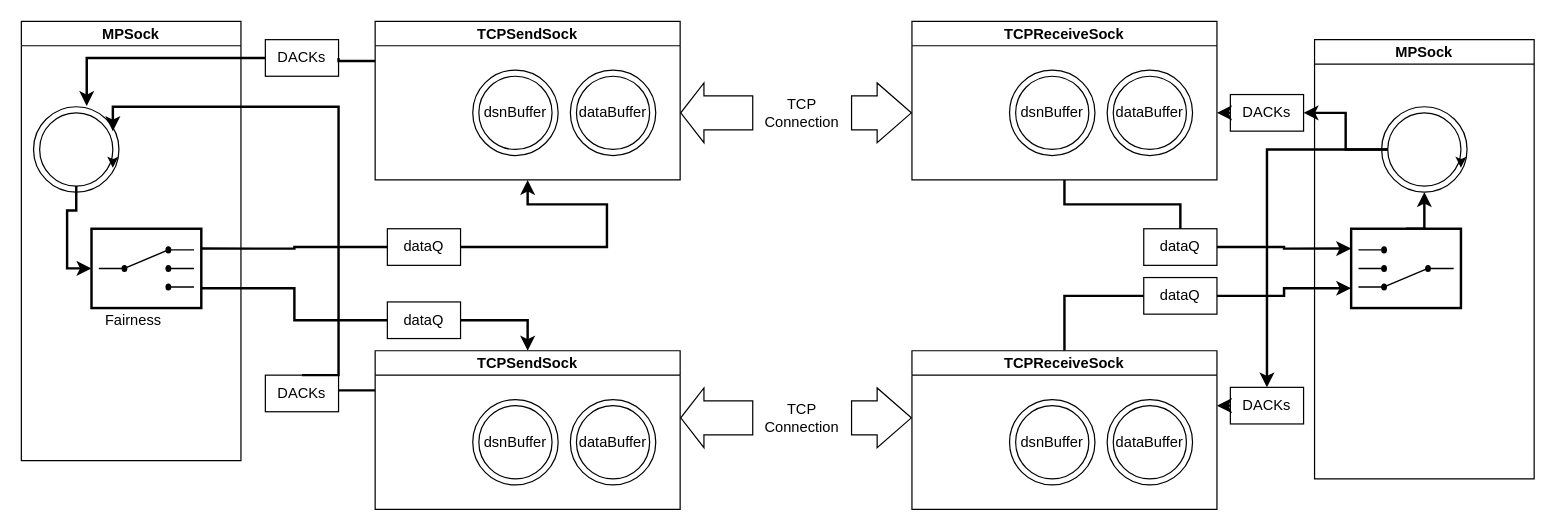
Image size: 1556x531. Some labels were removed from this diagram. The shapes that lost their labels are listed below. From the top down, each one's centre as x and y in pixels, then its label:
pixel 75 149: sendBuffer
pixel 1424 149: recvBuffer
